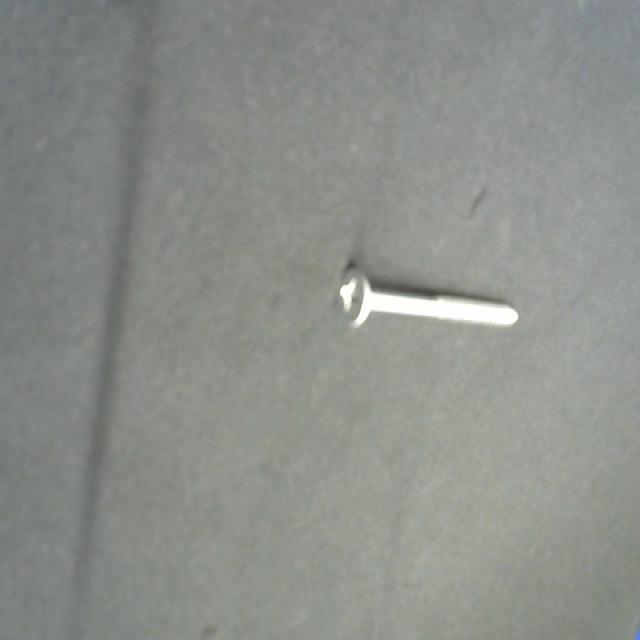WoodScrew: (325, 256, 524, 346)
